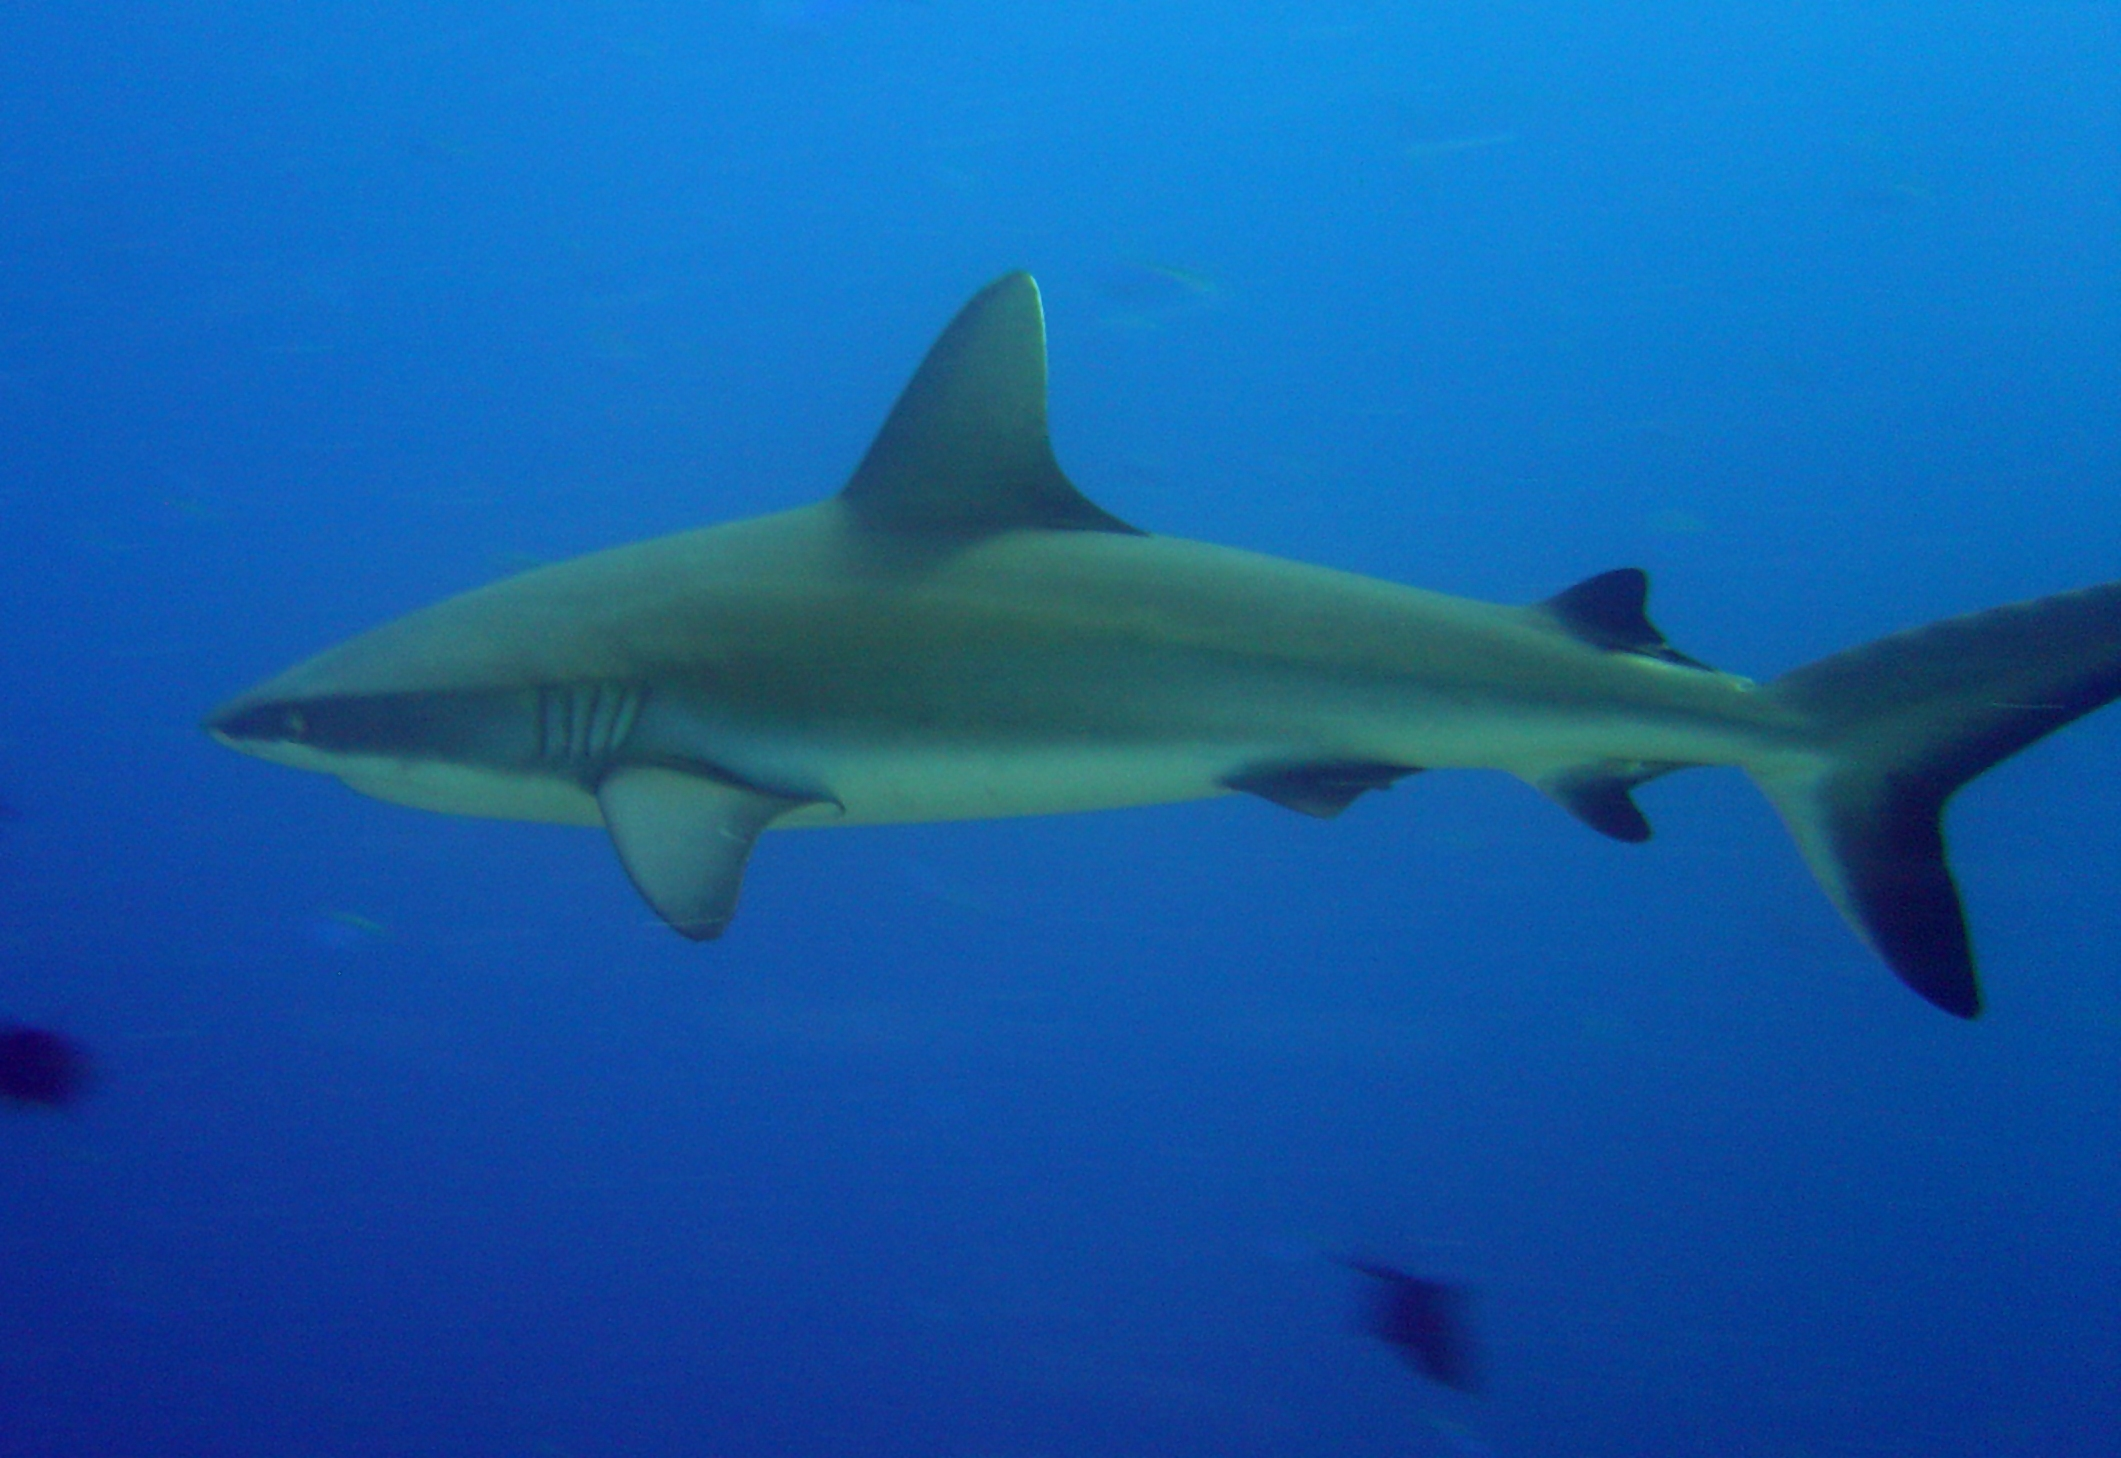Carcharhinus_amblyrhynchos: (197, 253, 2121, 1078)
